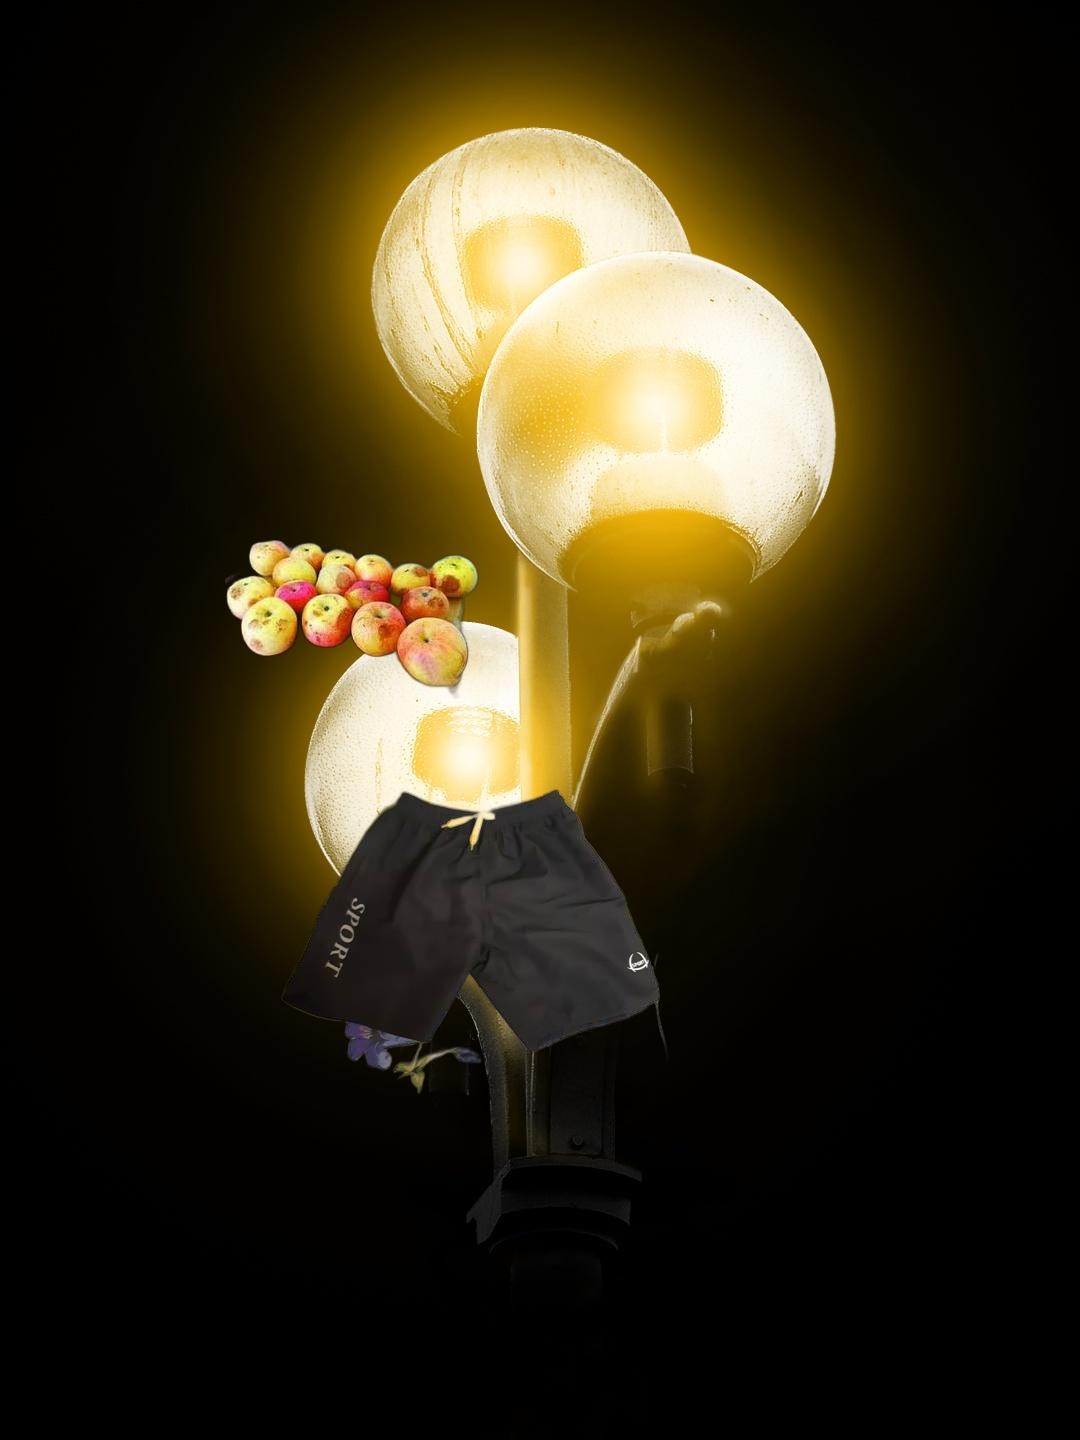biological: (225, 537, 484, 698)
clothes: (278, 786, 672, 1161)
trashbox-cardboard: (996, 1144, 1080, 1440)
